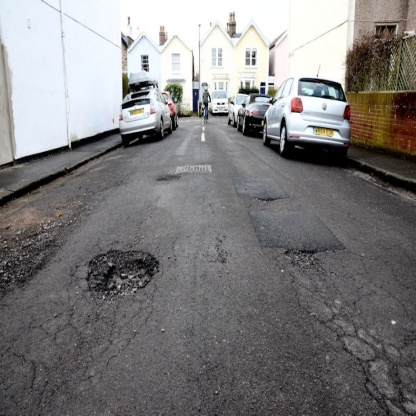pothole: (76, 242, 168, 304), (275, 239, 335, 280), (251, 190, 289, 207), (155, 169, 182, 185)
